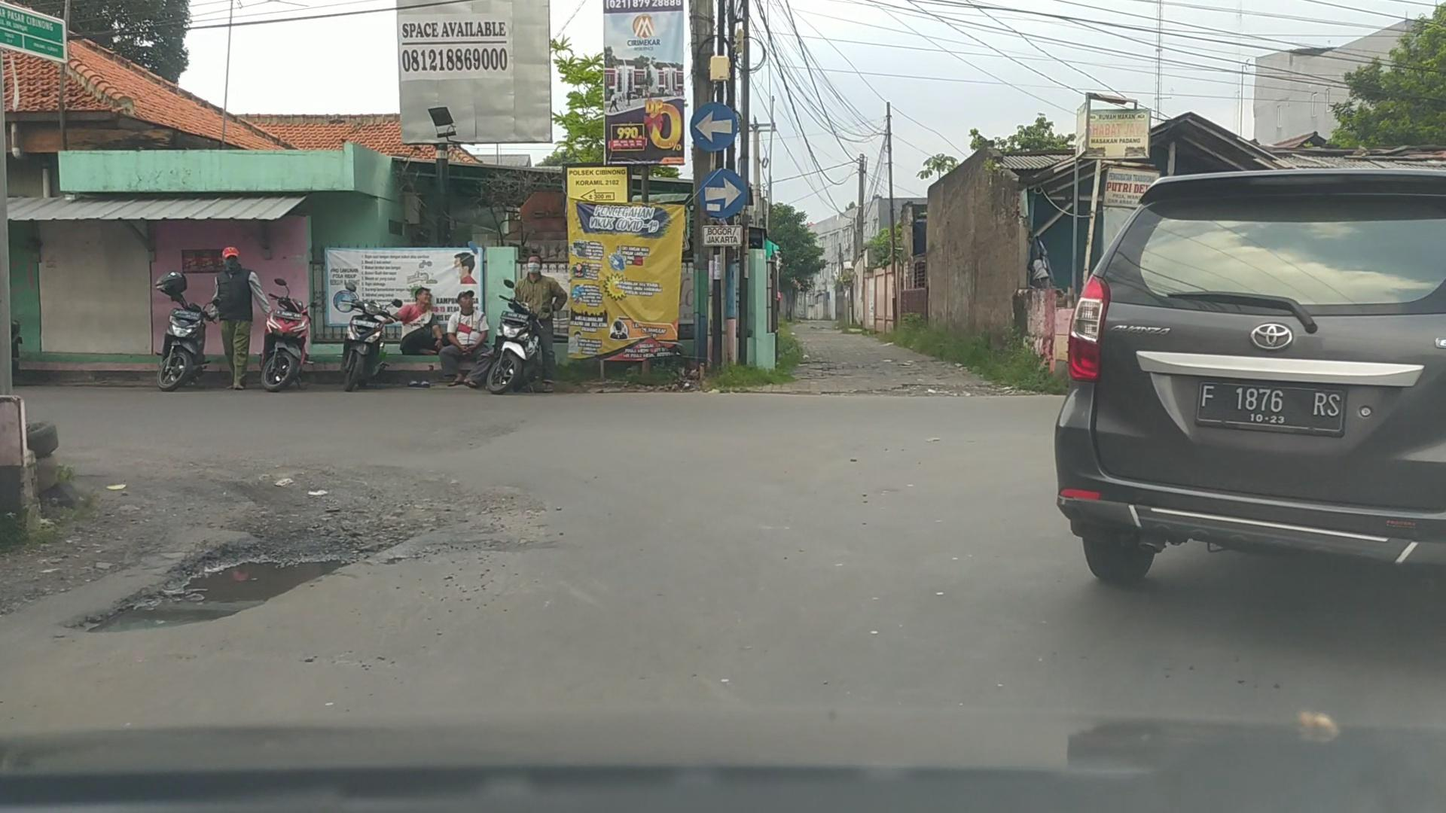pothole: (64, 474, 443, 635)
